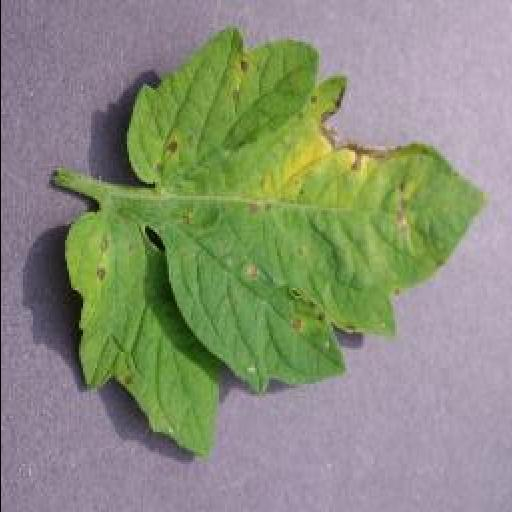disease_tomato: (63, 31, 485, 456)
